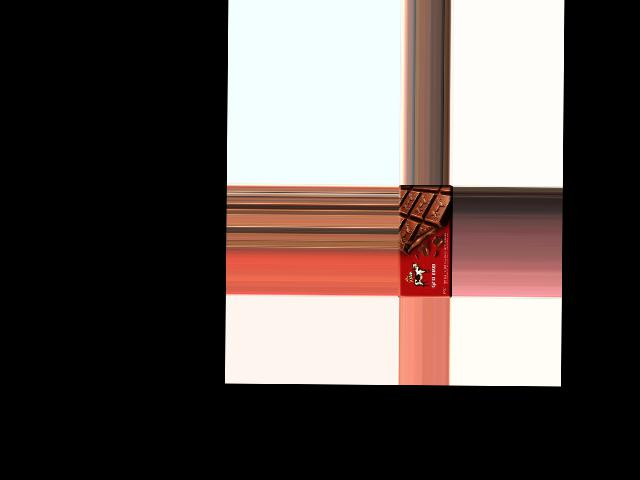chocolate: (398, 186, 452, 298)
